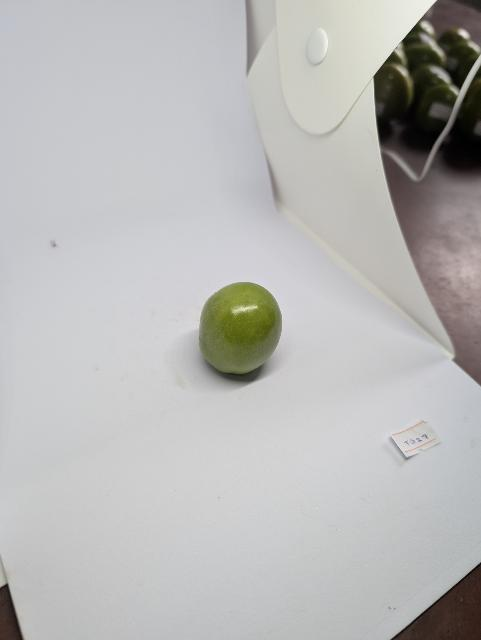green: (195, 280, 286, 377)
